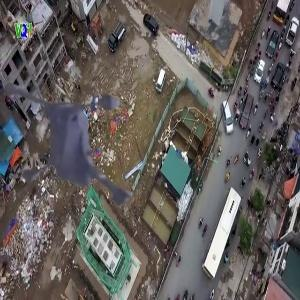drone: (1, 60, 187, 246)
